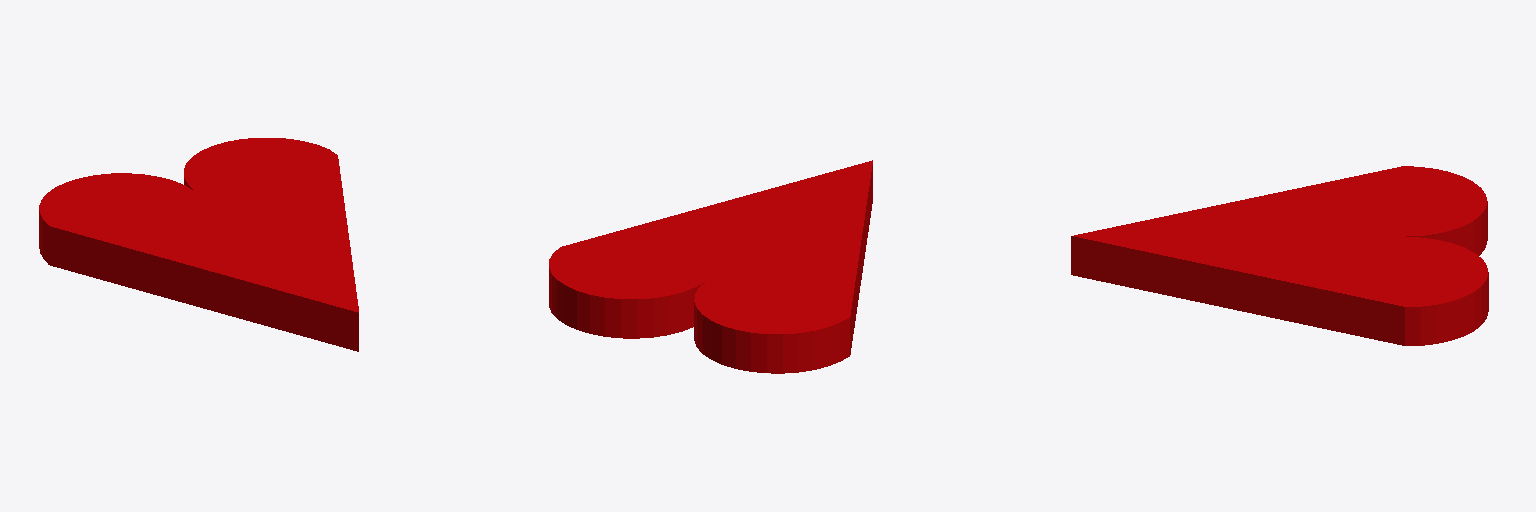
File: heart.obj
3 views of the same model, side by side, from view 1: azimuth 30°, elevation 25°; view 2: azimuth 150°, elevation 25°; view 3: azimuth 270°, elevation 25° (orthographic).
Size of the model in its own units: 4 by 0.5191 by 5.